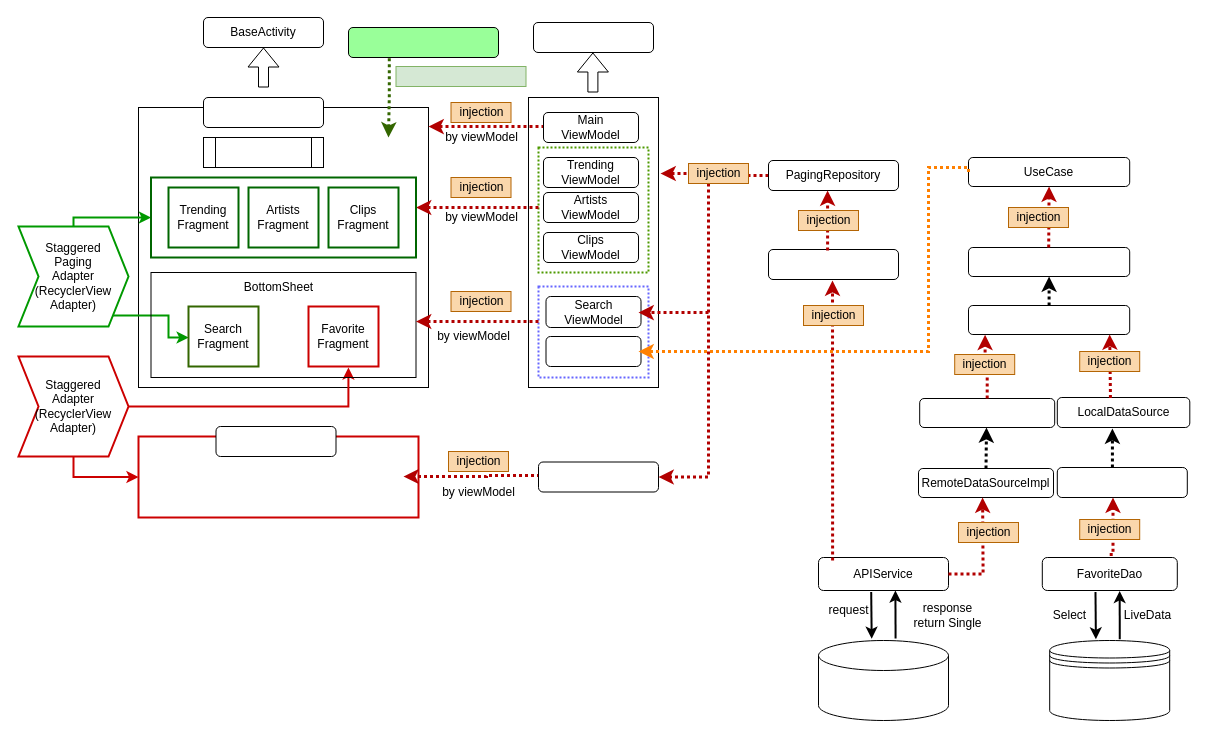
Some shapes in this 1207 by 738 pixel diagram are drawn without their labels. The centre of each missing label's shape, as x and y in pixels:
BaseViewModel: the point at 593,37
by activityViewModels: the point at 460,76
DetailActivity: the point at 275,441
DetailViewModel: the point at 598,476
Favorite ViewModel: the point at 593,351
LocalDataSourceImpl: the point at 1121,482
MainActivity: the point at 263,112
MainSharedViewModel: the point at 423,42
PagingSource: the point at 833,264
RemoteDataSource: the point at 987,413
Repository: the point at 1049,261
RepositoryImpl: the point at 1049,319
Room DB: the point at 1109,680
Server: the point at 883,680
ViewPager: the point at 263,152
